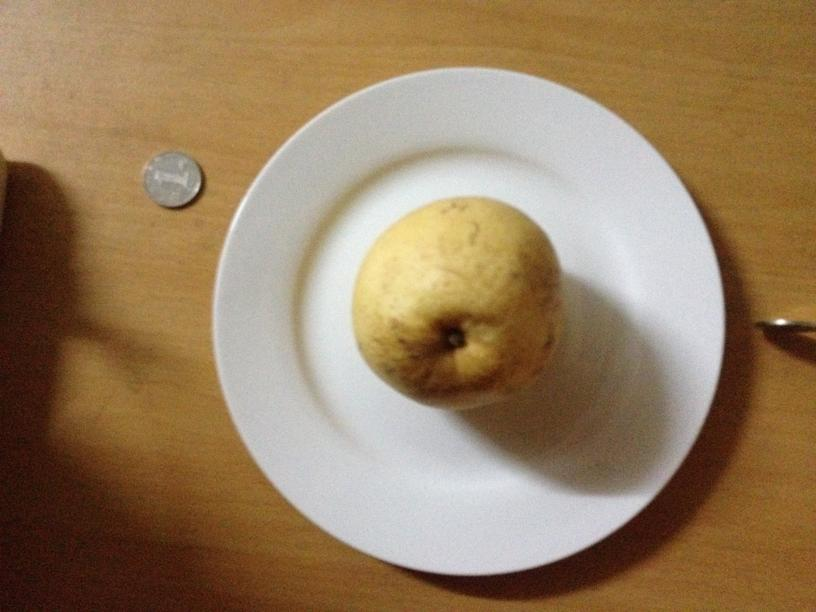coin: (139, 145, 208, 210)
pear: (354, 191, 564, 411)
